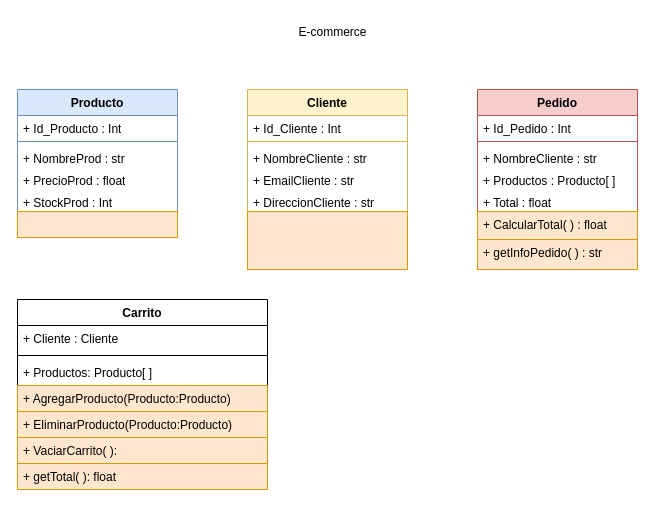
This 655x509 diagram has some shape labels left out. Here are the shapes that lost their labels. From the top down, the centre of each, then its label:
At point (97, 224): "+ getInfo( ): str".
At point (327, 240): "+ registrarPedido(Pedido:pedido ): str".
